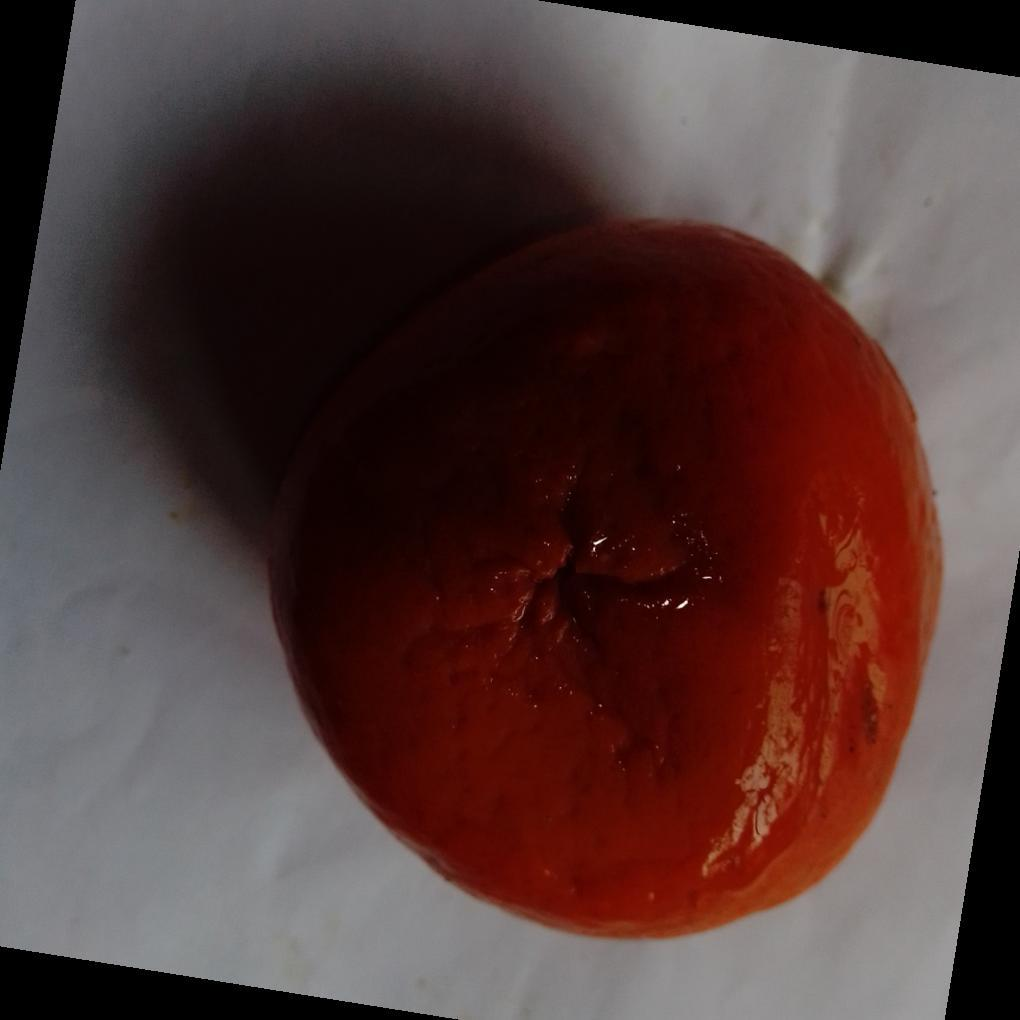FreshOrange: (254, 210, 948, 946)
